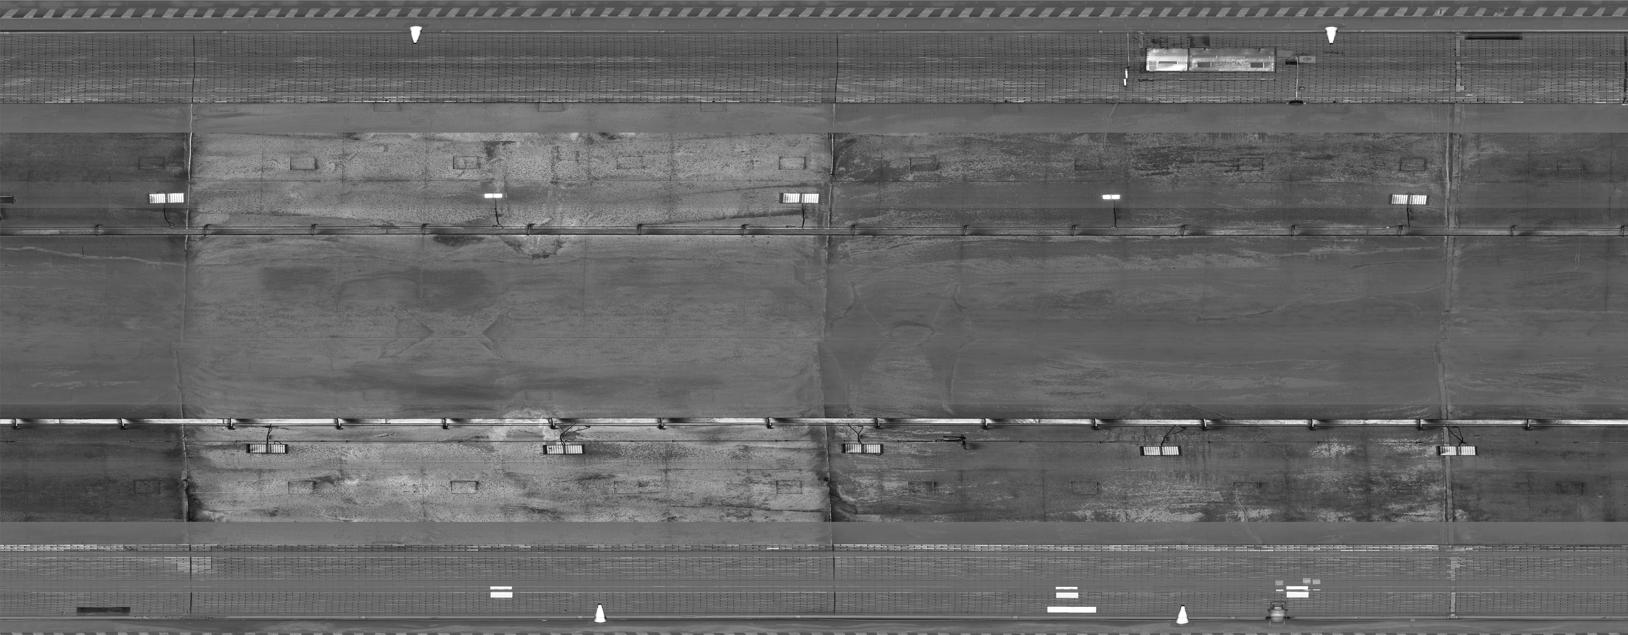light: (241, 439, 292, 458), (536, 441, 587, 460), (836, 439, 887, 458), (1135, 442, 1186, 461), (778, 189, 823, 206), (1384, 191, 1432, 208), (1433, 442, 1481, 459), (142, 188, 187, 205), (478, 191, 510, 201), (1096, 192, 1128, 202)
